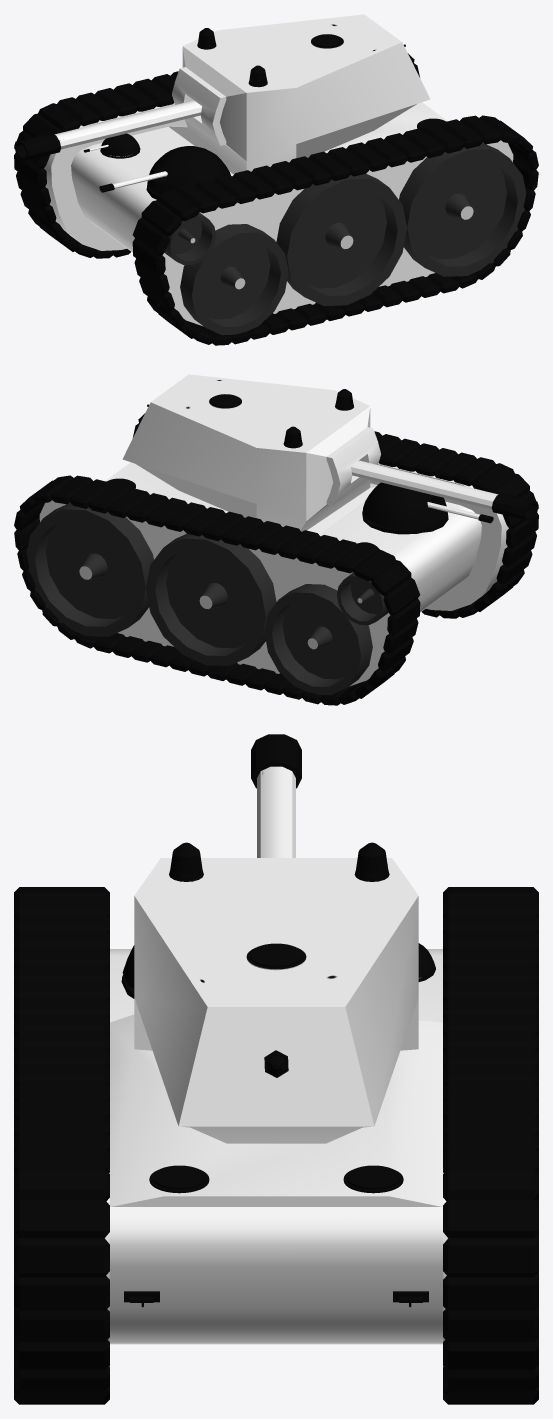
File: HeavyTank.fbx
The picture shows the model from 3 angles, top to bottom: view 1: azimuth 30°, elevation 25°; view 2: azimuth 150°, elevation 25°; view 3: azimuth 270°, elevation 25°; orthographic projection. The views are drawn at different scales.
Visible parts, largest first — view 1: Cube, Cylinder.003, Cylinder, Cube.097, Cube.007, Cube.006, Cube.008, Cube.054, Cube.005, Cube.009, Cube.055, Cube.015 (+35 smaller); view 2: Cube, Cylinder.003, Cylinder, Cube.097, Cube.053, Cube.052, Cube.054, Cube.008, Cube.051, Cube.055, Cube.009, Cube.063 (+35 smaller); view 3: Cube, Cylinder, Cube.024, Cube.072, Cube.025, Cube.073, Cube.026, Cube.074, Cube.027, Cube.075, Cube.023, Cube.071 (+40 smaller).
Part boxes in pixels (x1,y1,x2,y2): Cube: [44, 14, 513, 326]; Cylinder.003: [164, 143, 526, 335]; Cylinder: [14, 100, 201, 160]; Cube.097: [172, 67, 226, 145]; Cube.007: [141, 200, 181, 235]; Cube.006: [132, 217, 169, 255]; Cube.008: [156, 190, 199, 220]; Cube.054: [38, 103, 80, 132]; Cube.005: [132, 238, 165, 275]; Cube.009: [175, 184, 218, 213]; Cube.055: [57, 97, 99, 126]; Cube.015: [327, 147, 369, 176]; Cube: [39, 374, 508, 686]; Cylinder.003: [26, 503, 388, 695]; Cylinder: [351, 460, 538, 520]; Cube.097: [326, 427, 380, 505]; Cube.053: [371, 560, 411, 595]; Cube.052: [383, 577, 420, 615]; Cube.054: [353, 550, 396, 580]; Cube.008: [472, 463, 514, 492]; Cube.051: [387, 598, 420, 635]; Cube.055: [334, 544, 377, 573]; Cube.009: [453, 457, 495, 486]; Cube.063: [183, 507, 225, 536]; Cube: [105, 842, 447, 1366]; Cylinder: [251, 734, 301, 857]; Cube.024: [14, 1199, 109, 1238]; Cube.072: [443, 1199, 538, 1238]; Cube.025: [14, 1238, 109, 1277]; Cube.073: [443, 1238, 538, 1277]; Cube.026: [14, 1276, 109, 1311]; Cube.074: [443, 1276, 538, 1311]; Cube.027: [14, 1309, 109, 1342]; Cube.075: [443, 1309, 538, 1342]; Cube.023: [14, 1170, 109, 1200]; Cube.071: [443, 1170, 538, 1200].
Bounding box in the file's own units: 703 × 342 × 396.
